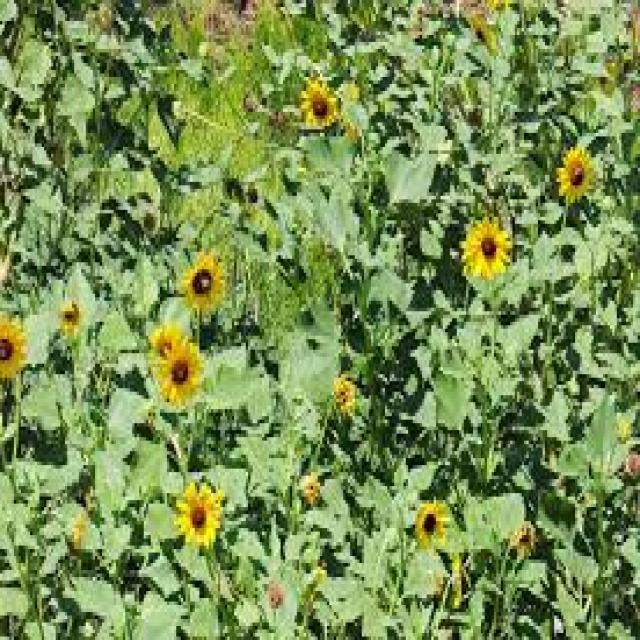sunflower: (459, 214, 518, 286), (177, 483, 227, 557), (173, 248, 229, 314), (555, 142, 601, 216), (156, 342, 204, 411), (301, 83, 344, 135), (412, 497, 452, 549), (1, 318, 29, 384), (328, 371, 367, 417), (55, 296, 87, 336), (152, 323, 181, 365), (508, 517, 537, 557), (74, 506, 94, 560), (299, 468, 326, 505), (267, 578, 288, 611), (621, 448, 640, 480), (628, 10, 640, 43), (628, 88, 640, 116)
